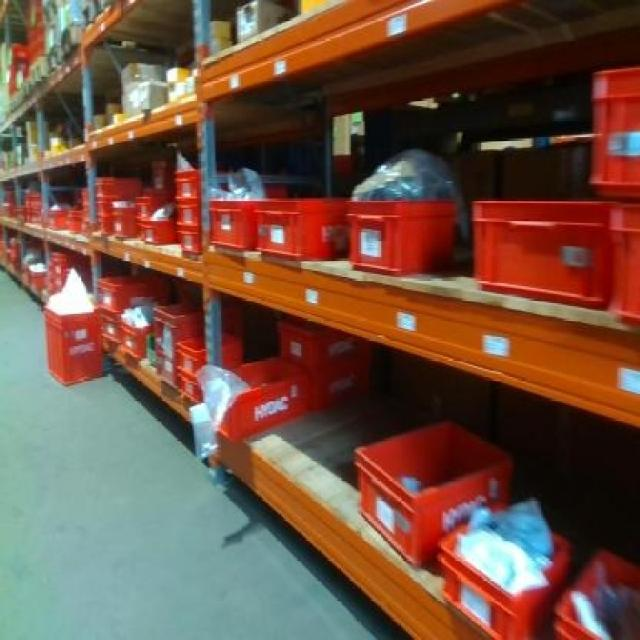pallets: (354, 420, 509, 563), (437, 498, 568, 637), (471, 198, 609, 305), (346, 198, 452, 272), (589, 66, 637, 195), (43, 308, 100, 382)
